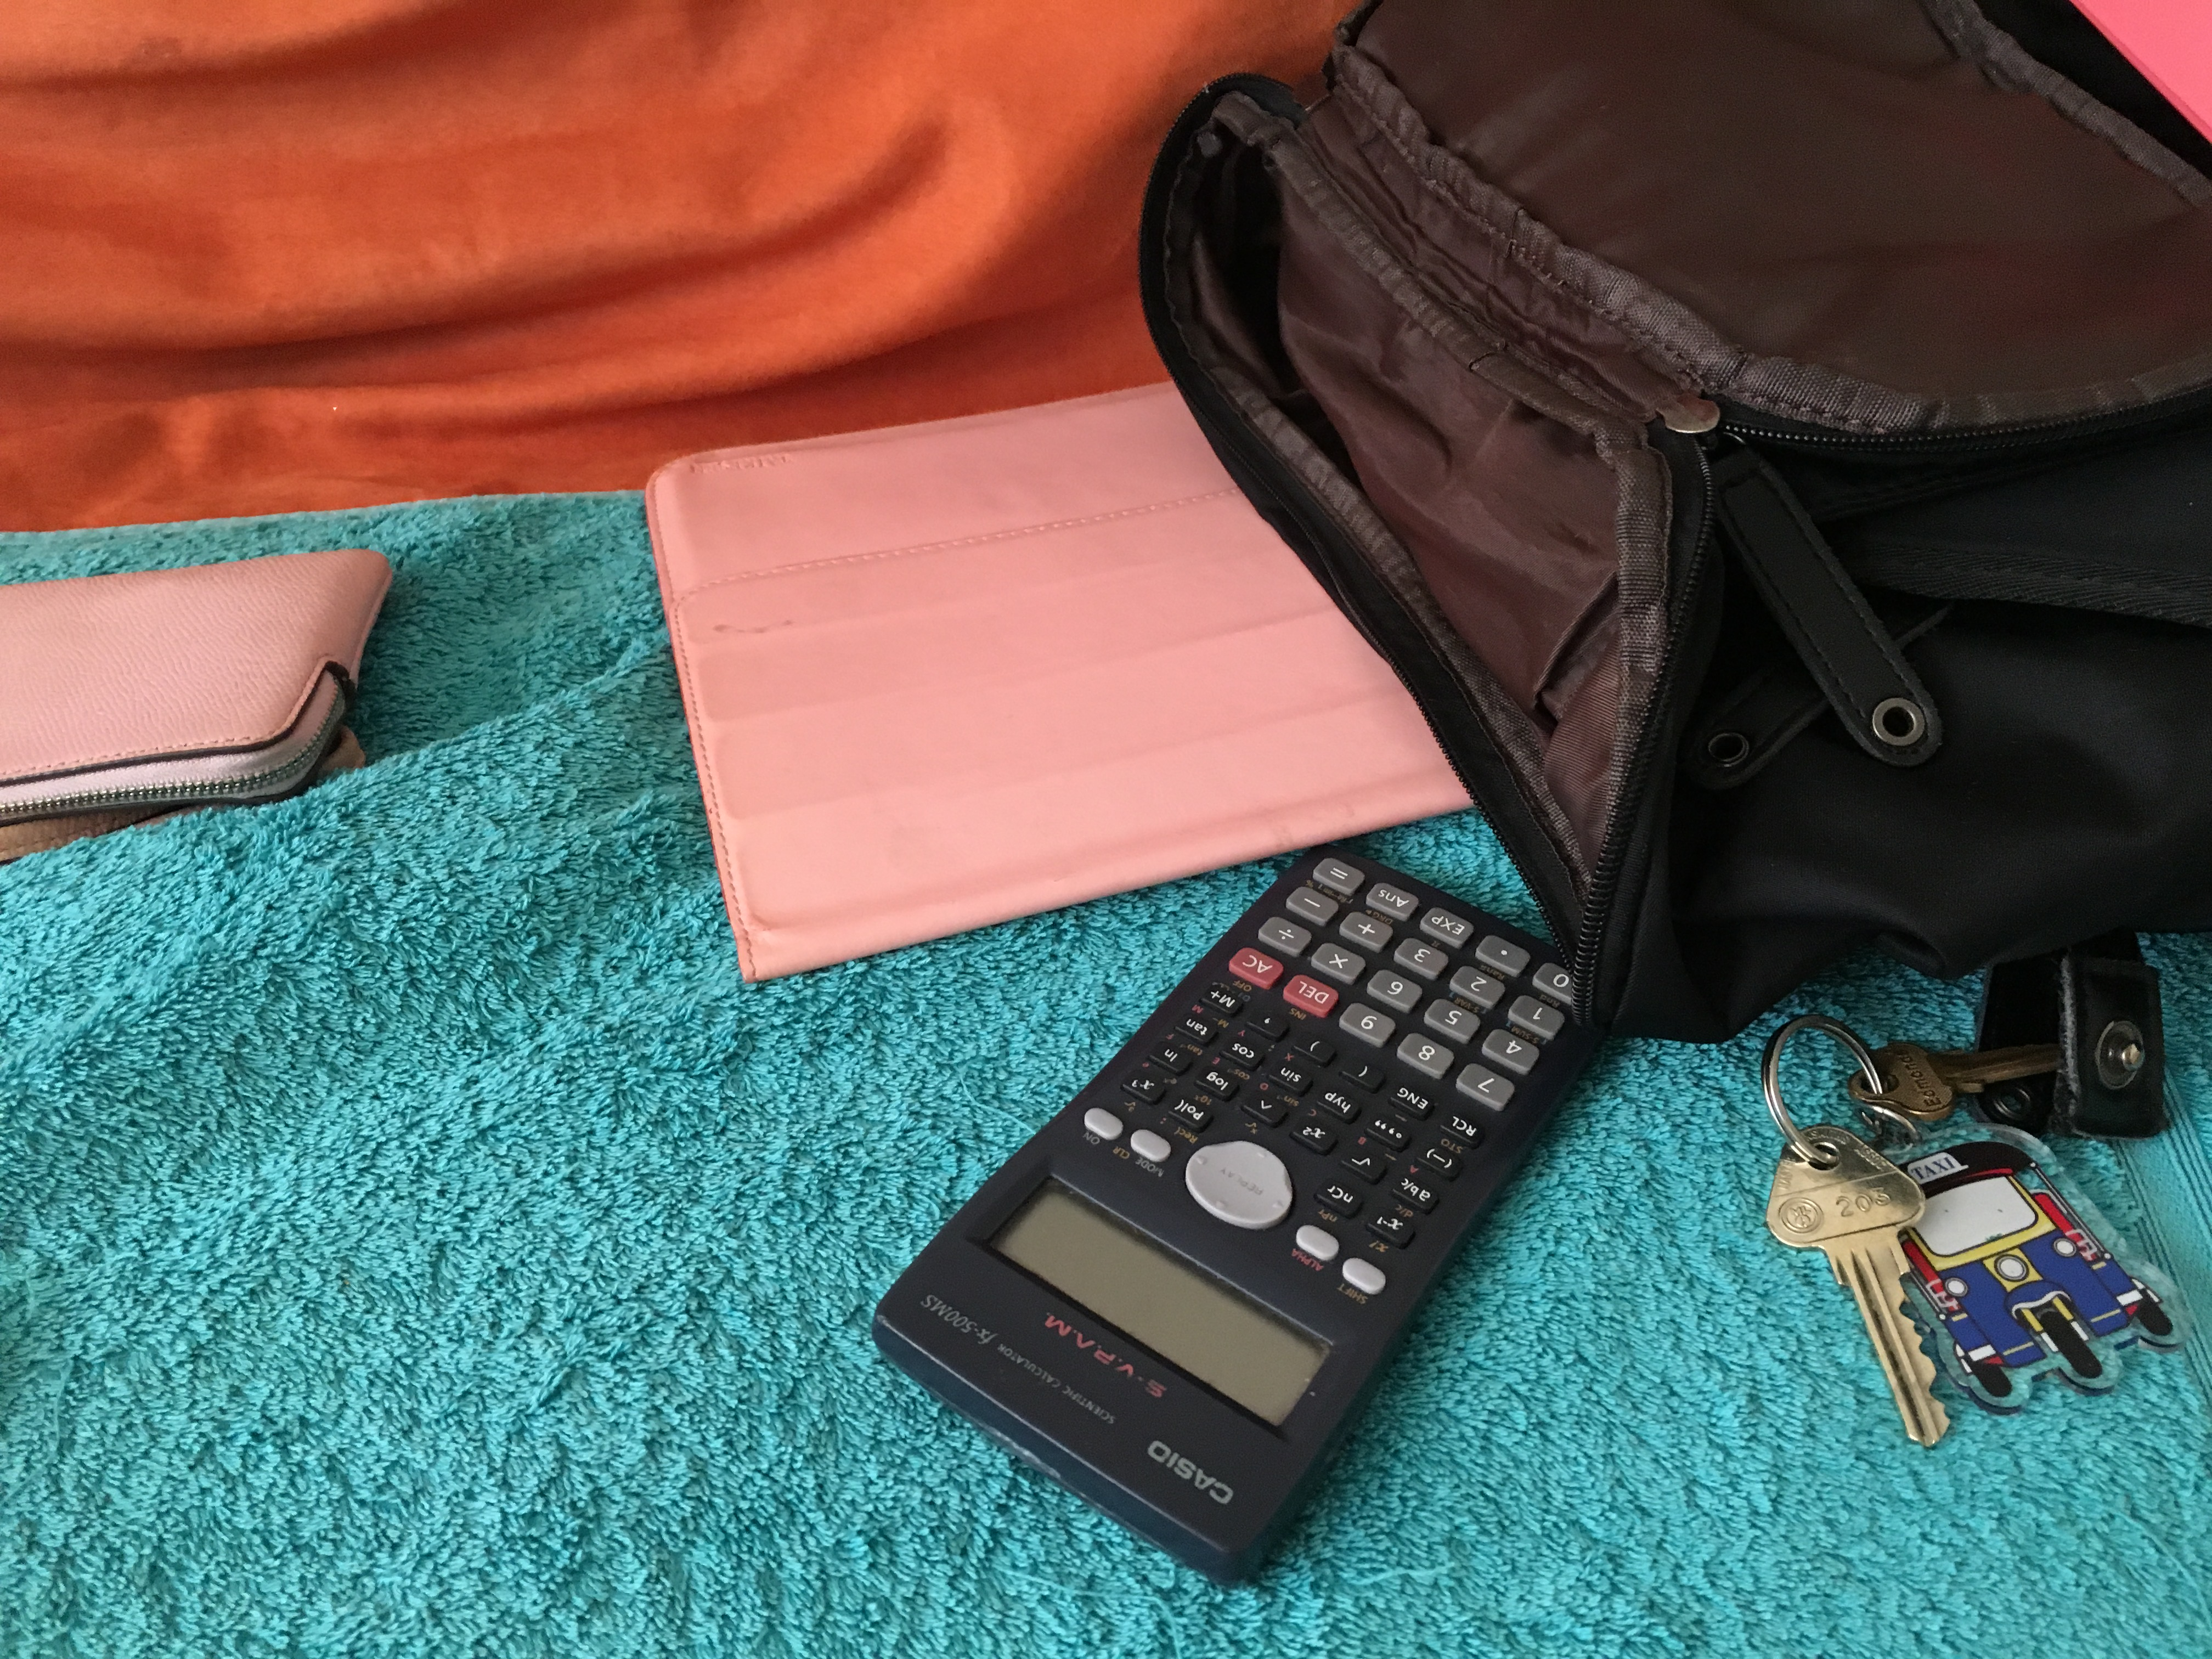Calculator: (853, 830, 1618, 1586)
